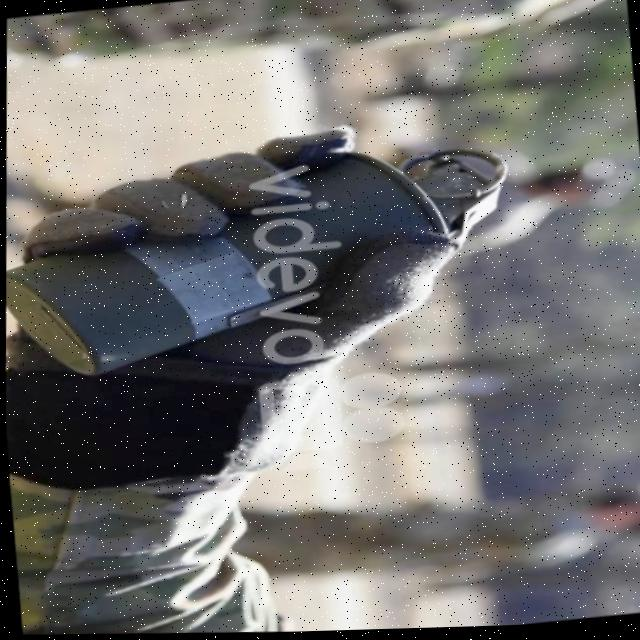grenade: (2, 121, 529, 392)
